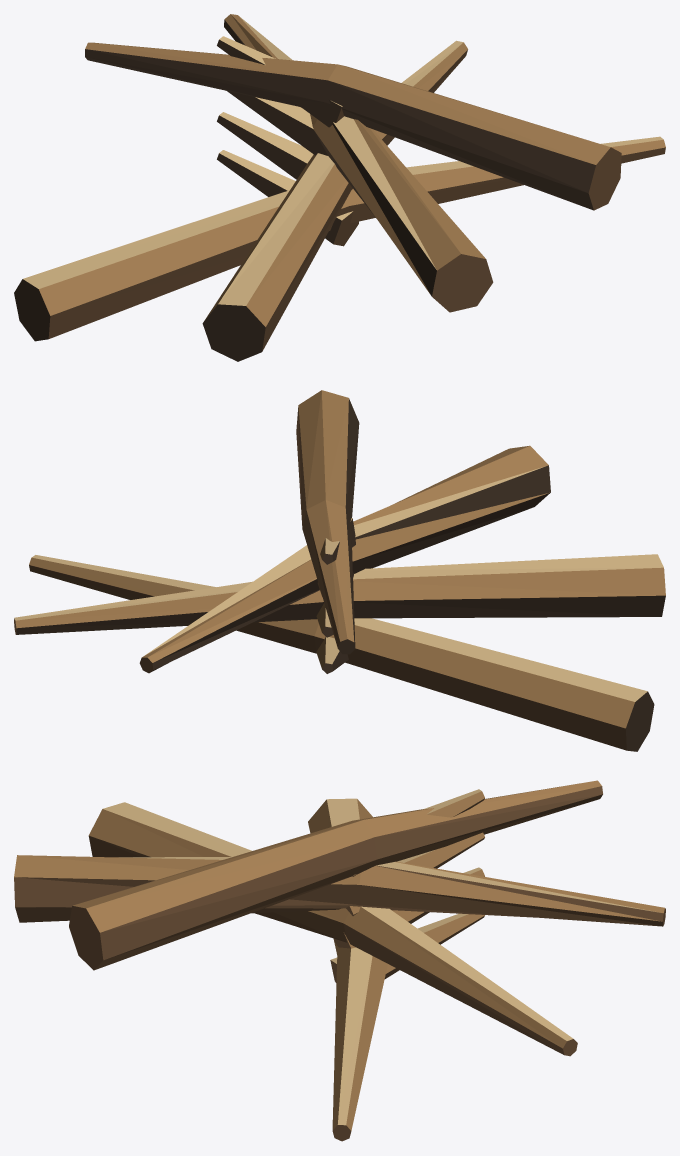
The model's file is TW_PROP_BRANCH_PILE_B_LOD0.glb.
The picture shows the model from 3 angles, top to bottom: view 1: azimuth 30°, elevation 25°; view 2: azimuth 150°, elevation 25°; view 3: azimuth 270°, elevation 25°; orthographic projection. The views are drawn at different scales.
Visible parts, largest first — view 1: TW_PROP_BRANCH_PILE_B_LOD0; view 2: TW_PROP_BRANCH_PILE_B_LOD0; view 3: TW_PROP_BRANCH_PILE_B_LOD0.
Boxes of the visible parts, x1=… form: TW_PROP_BRANCH_PILE_B_LOD0: x1=14, y1=14, x2=665, y2=361; TW_PROP_BRANCH_PILE_B_LOD0: x1=14, y1=390, x2=665, y2=751; TW_PROP_BRANCH_PILE_B_LOD0: x1=14, y1=780, x2=665, y2=1141.
Bounding box in the file's own units: 1.4 × 0.4075 × 1.21.
Materials: 1 (1 with a texture image).
